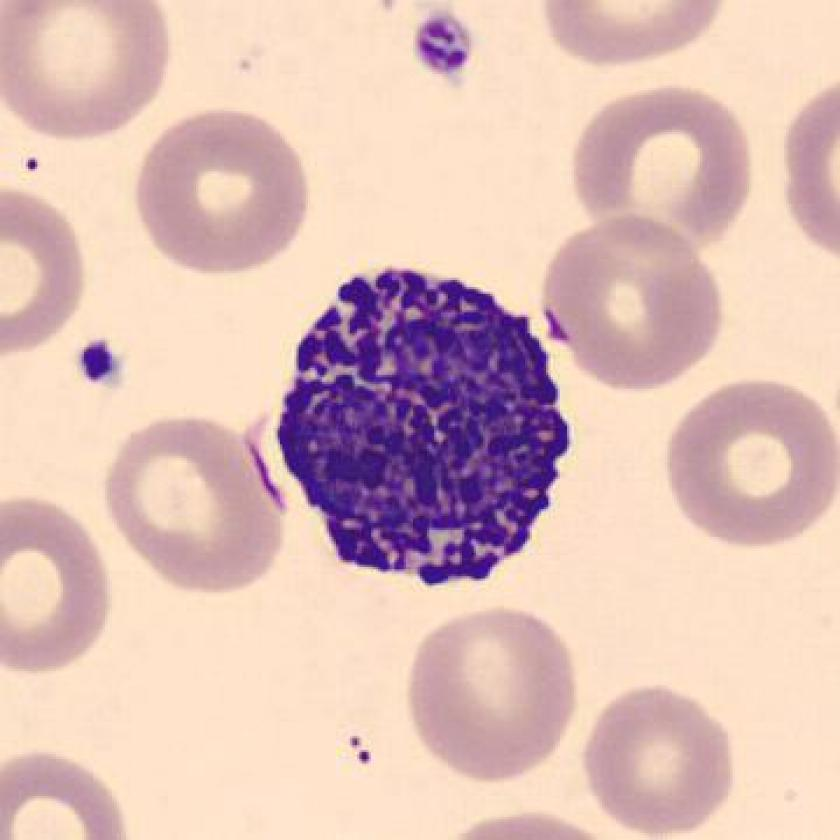basophil: (260, 253, 584, 603)
